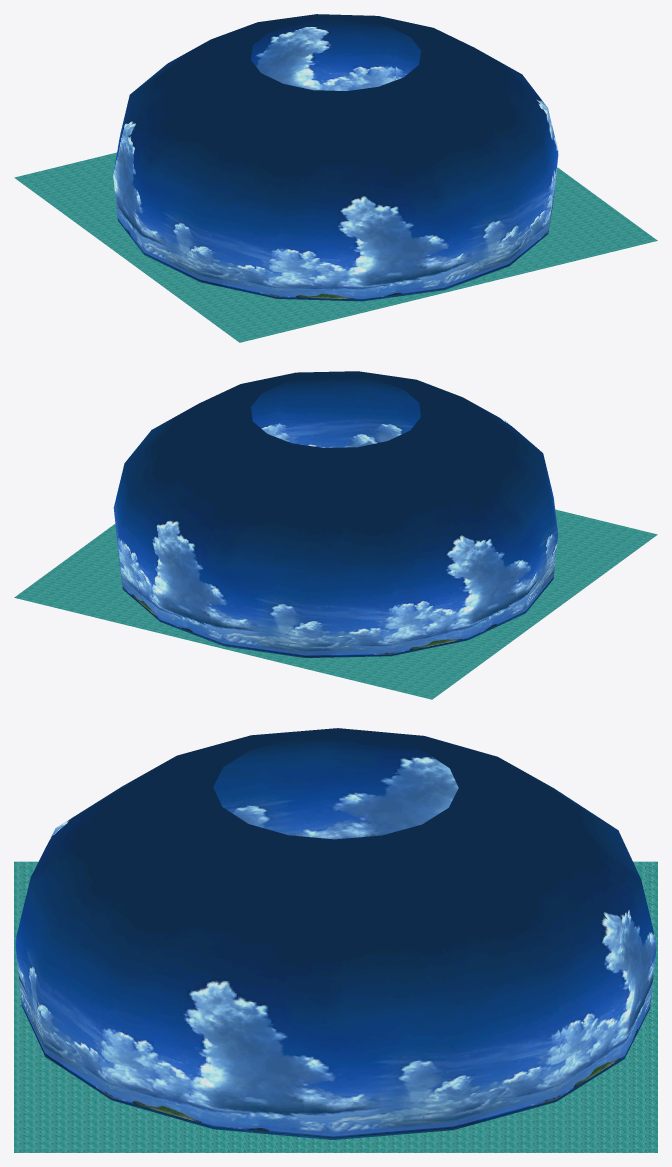
Rendered from Sky.obj.
The picture shows the model from 3 angles, top to bottom: view 1: azimuth 30°, elevation 25°; view 2: azimuth 150°, elevation 25°; view 3: azimuth 270°, elevation 25°; orthographic projection. The views are drawn at different scales.
Bounding box in the file's own units: 4831 × 2317 × 4516.
Materials: 3 (3 with a texture image).
